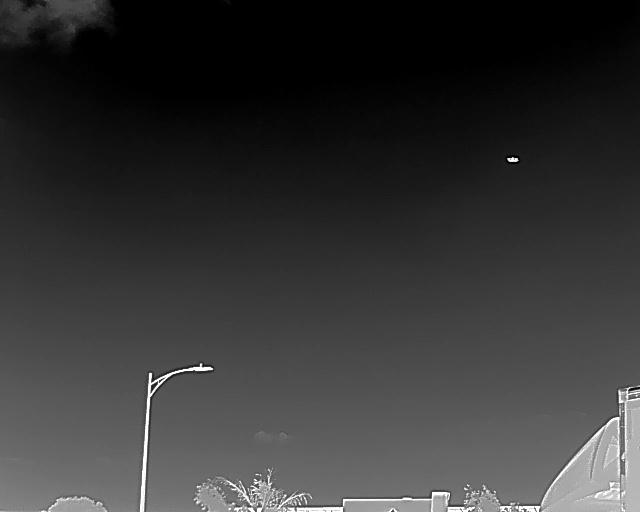fpv-drone: (505, 155, 519, 164)
